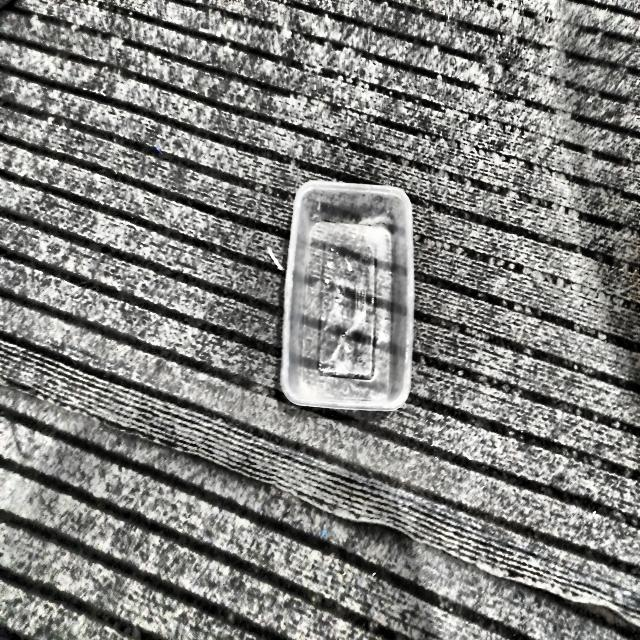plastic container: (281, 182, 414, 410)
